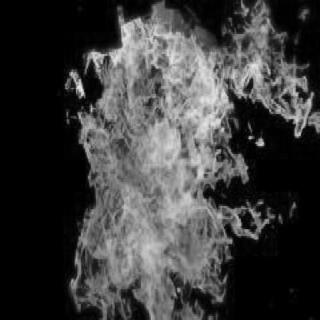Fire: (37, 6, 317, 318)
